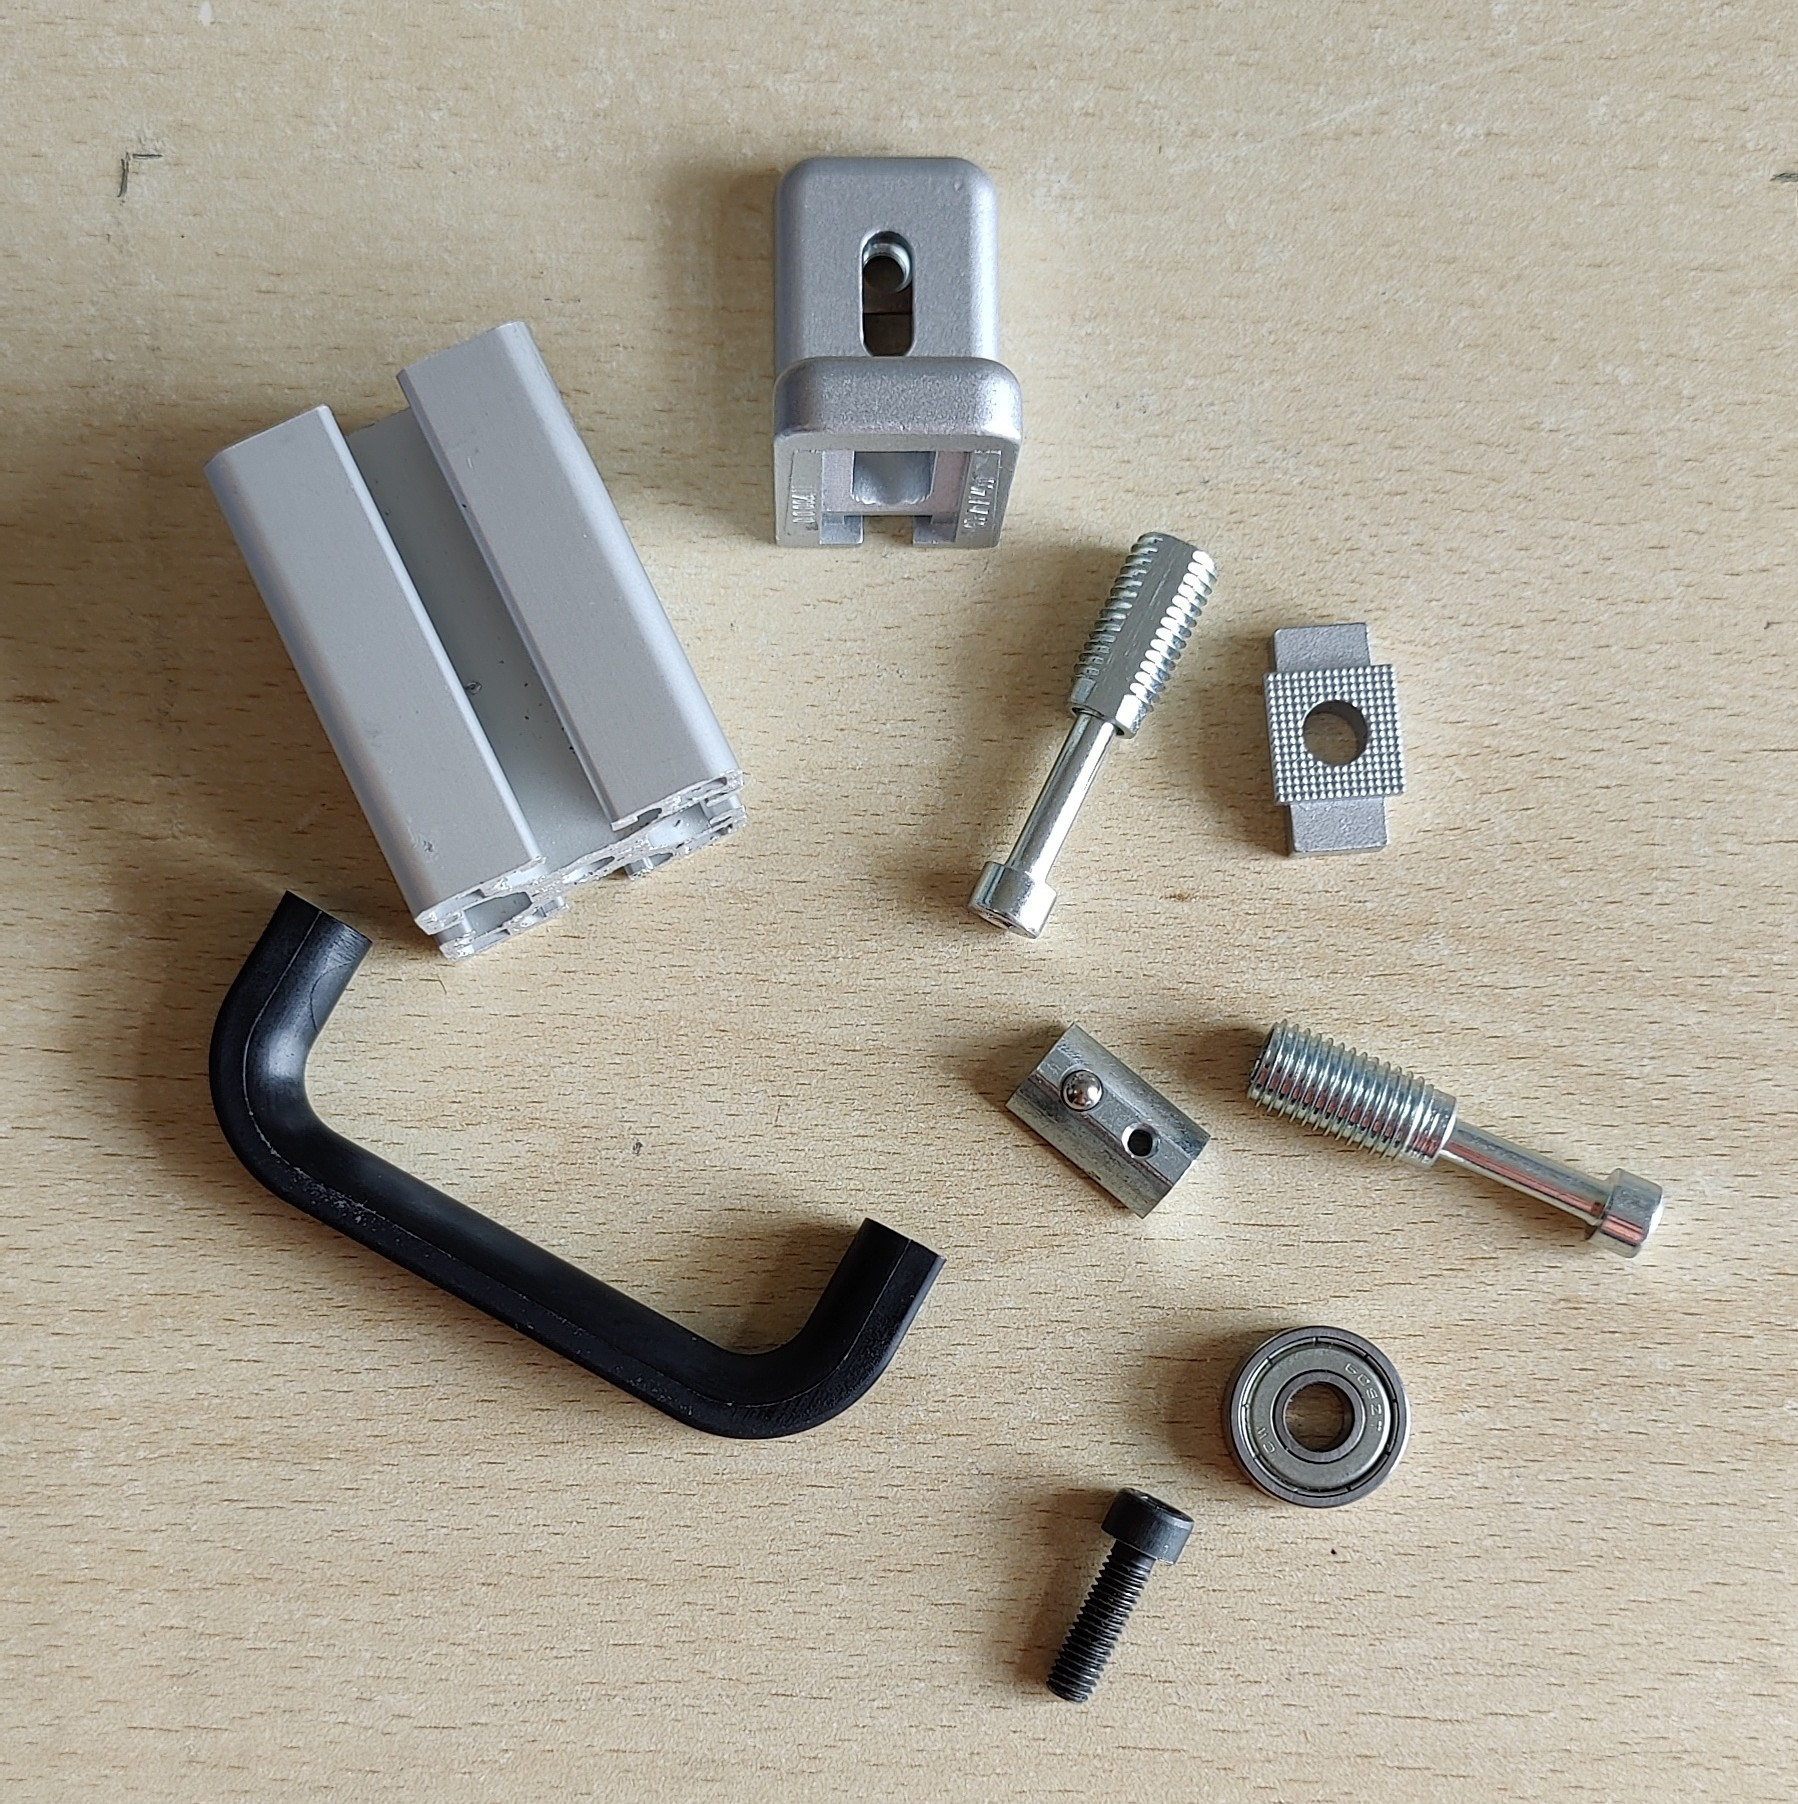Aluminium Extension: (203, 318, 752, 966)
Ball Bearing: (1228, 1323, 1413, 1511)
Multiwinkel: (769, 155, 1026, 551)
Pull Handle: (206, 886, 952, 1440)
Shoulder Socket Head Cap Screw: (963, 528, 1222, 942), (1240, 1019, 1666, 1259)
Socket Head Cap Screw: (1041, 1486, 1195, 1705)
T Nut Square: (1256, 619, 1411, 859)
T Spring Nut: (1004, 1022, 1213, 1221)
